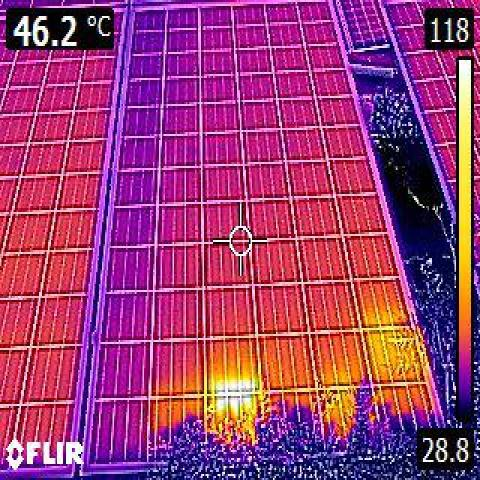fault: (214, 385, 257, 415)
